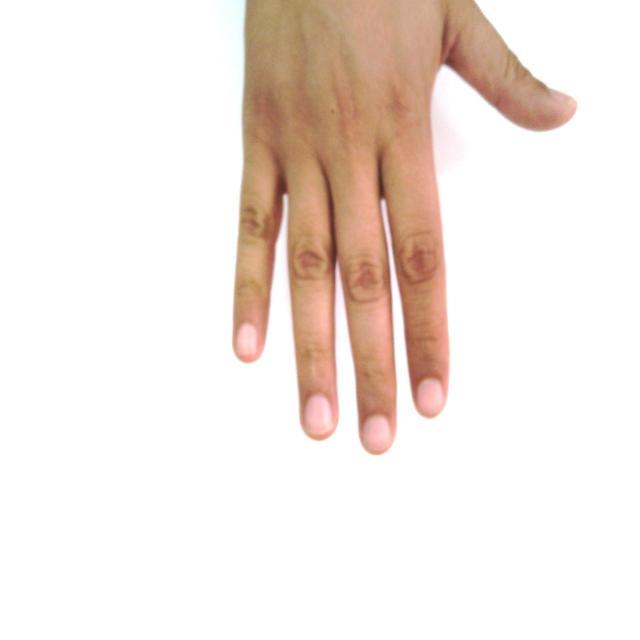Fingernail: (306, 395, 332, 435), (417, 378, 443, 416), (364, 416, 390, 451), (237, 325, 258, 356), (547, 90, 572, 103)
